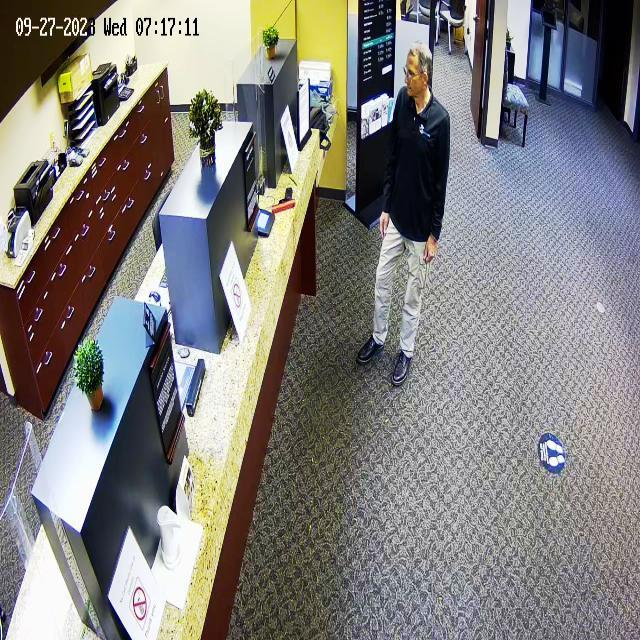Gun: (365, 207, 393, 245)
